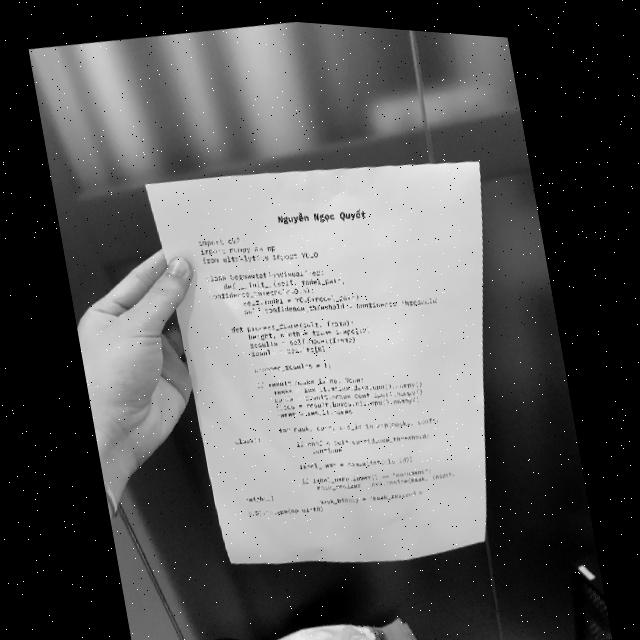document: (146, 160, 485, 562)
